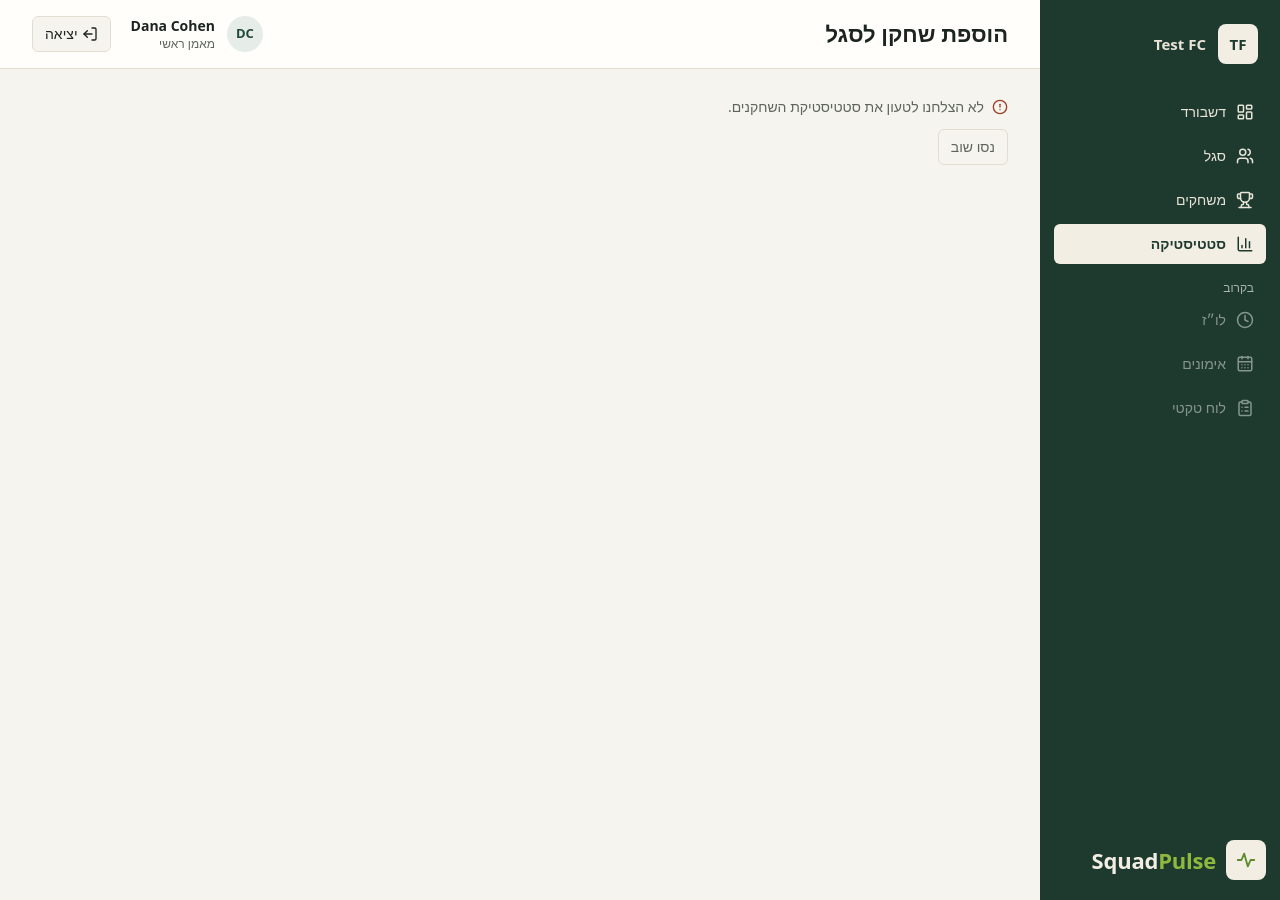
the create-from-stats page's states › shows a read error with a retry
Check: the heading "הוספת שחקן לסגל" is shown, box [826,20,1008,48]
Check: the text "לא הצלחנו לטעון את סטטיסטיקת השחקנים." is shown, box [728,97,1008,117]
What coordinates should you click on to do the following:
click the button "נסו שוב"
I would click on:
 (973, 147)
Its box is [938,129,1008,165].
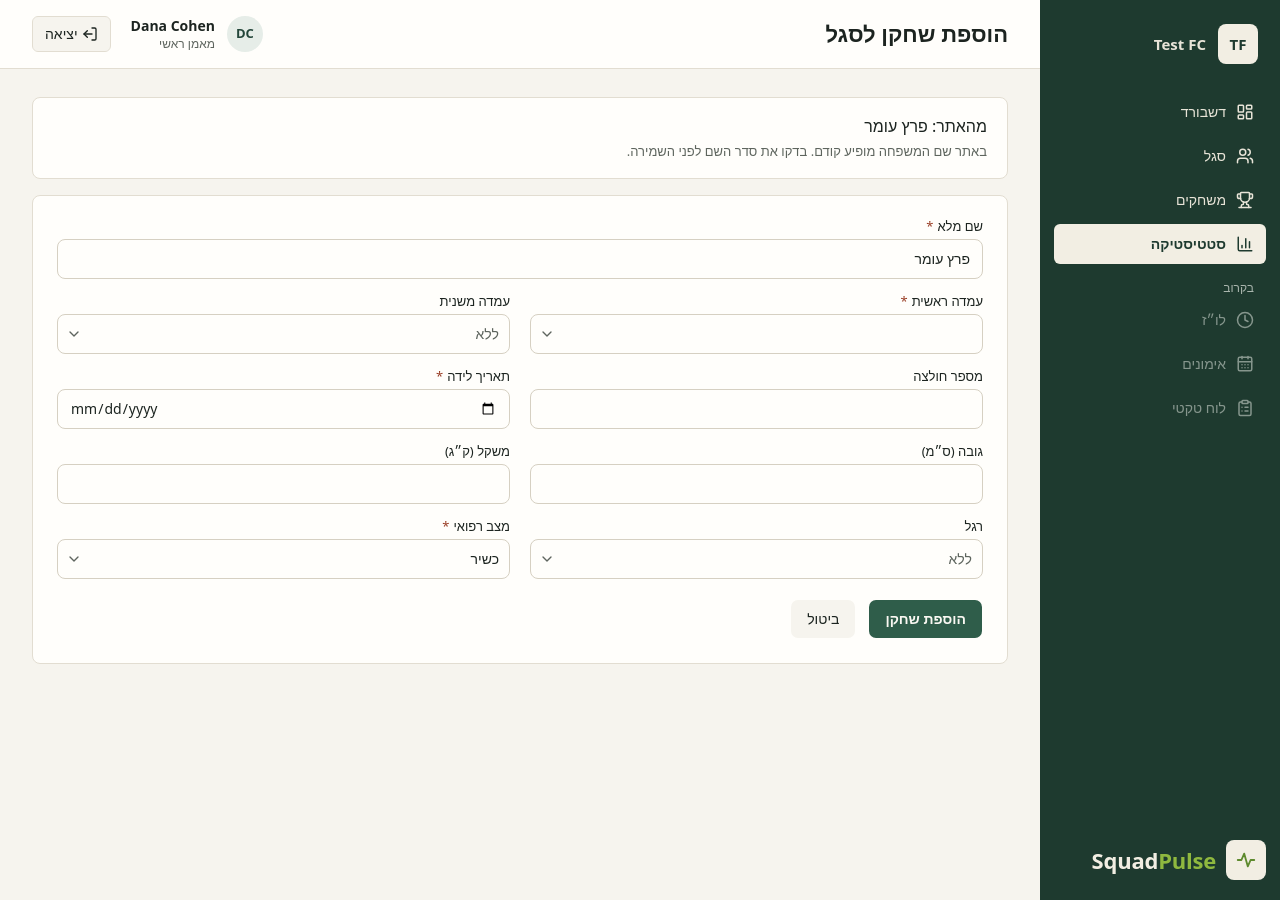
Check: the button "הוספת שחקן" is shown, box [868,598,983,638]
